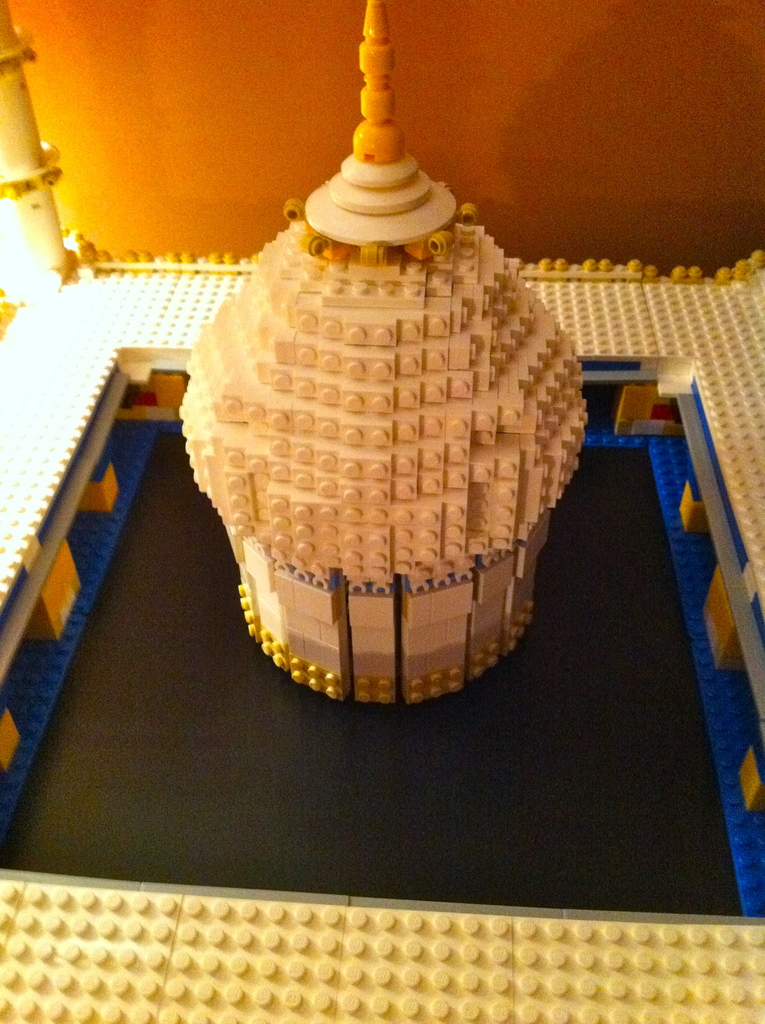cake: (177, 0, 600, 703)
